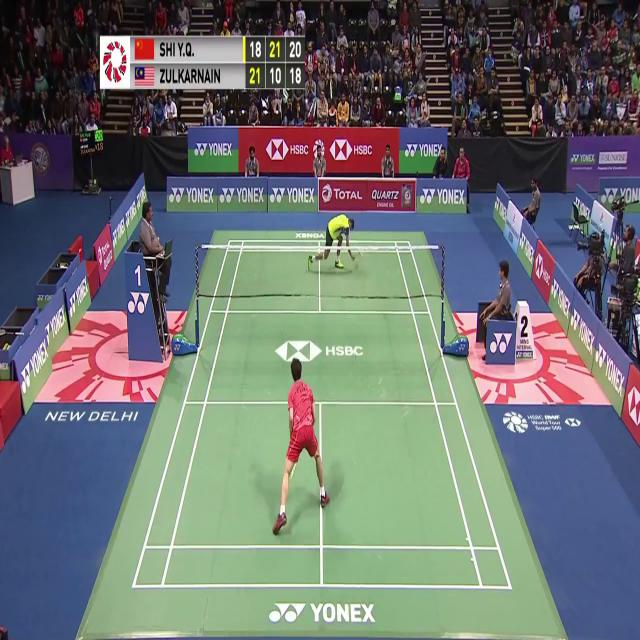Shuttlecock: (351, 346, 358, 358)
